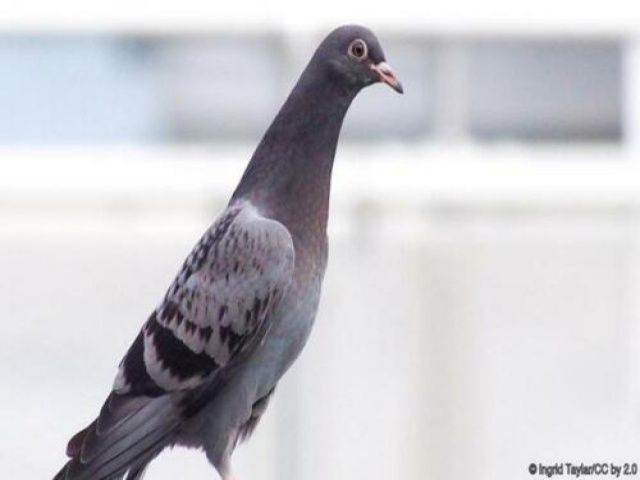Pigeon: (74, 22, 412, 480)
